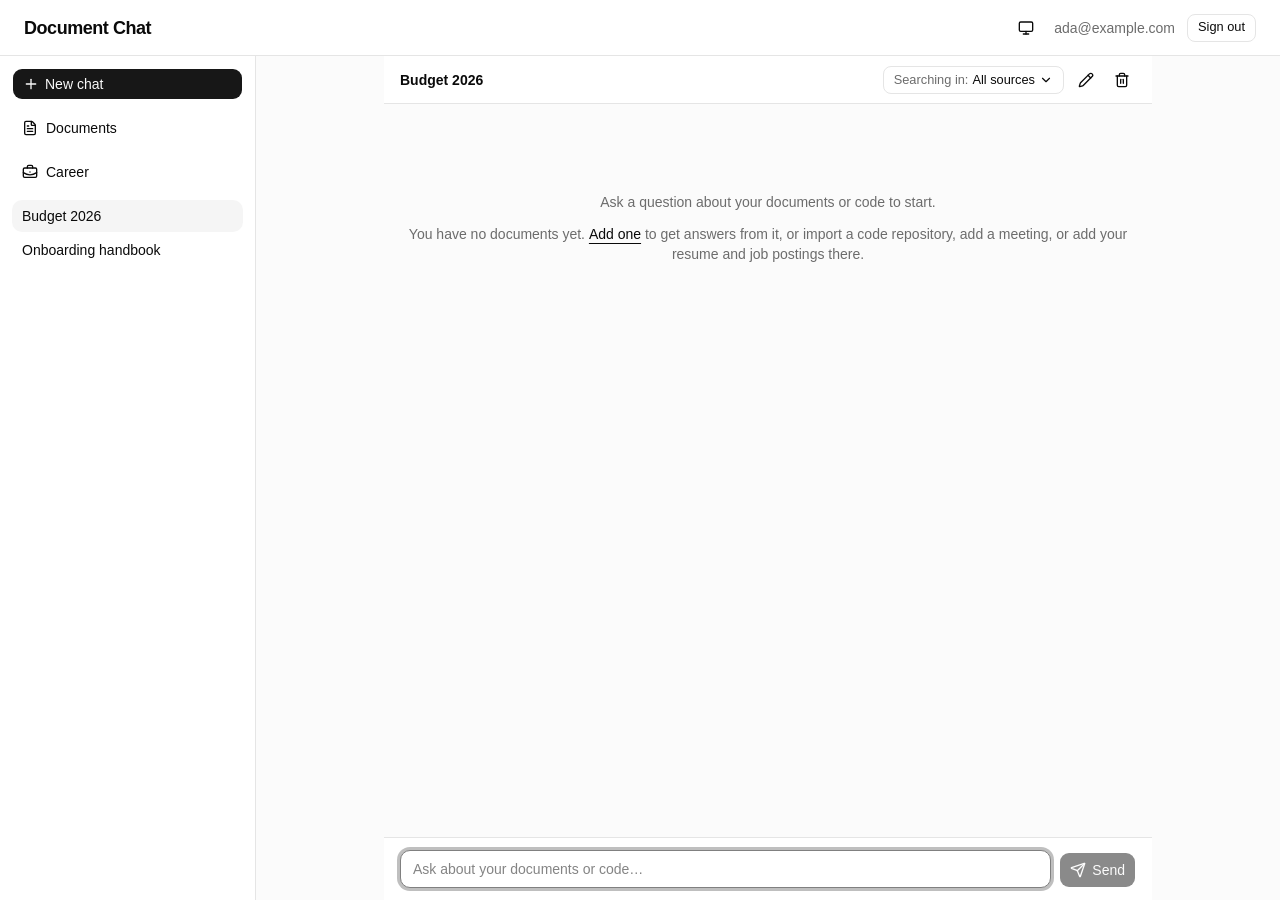
Test: chat header › renaming › keeps the editor open and says so when the server fails
Click the button named "Rename chat": click(1086, 80) top-left (1072, 66), bottom-right (1100, 94)
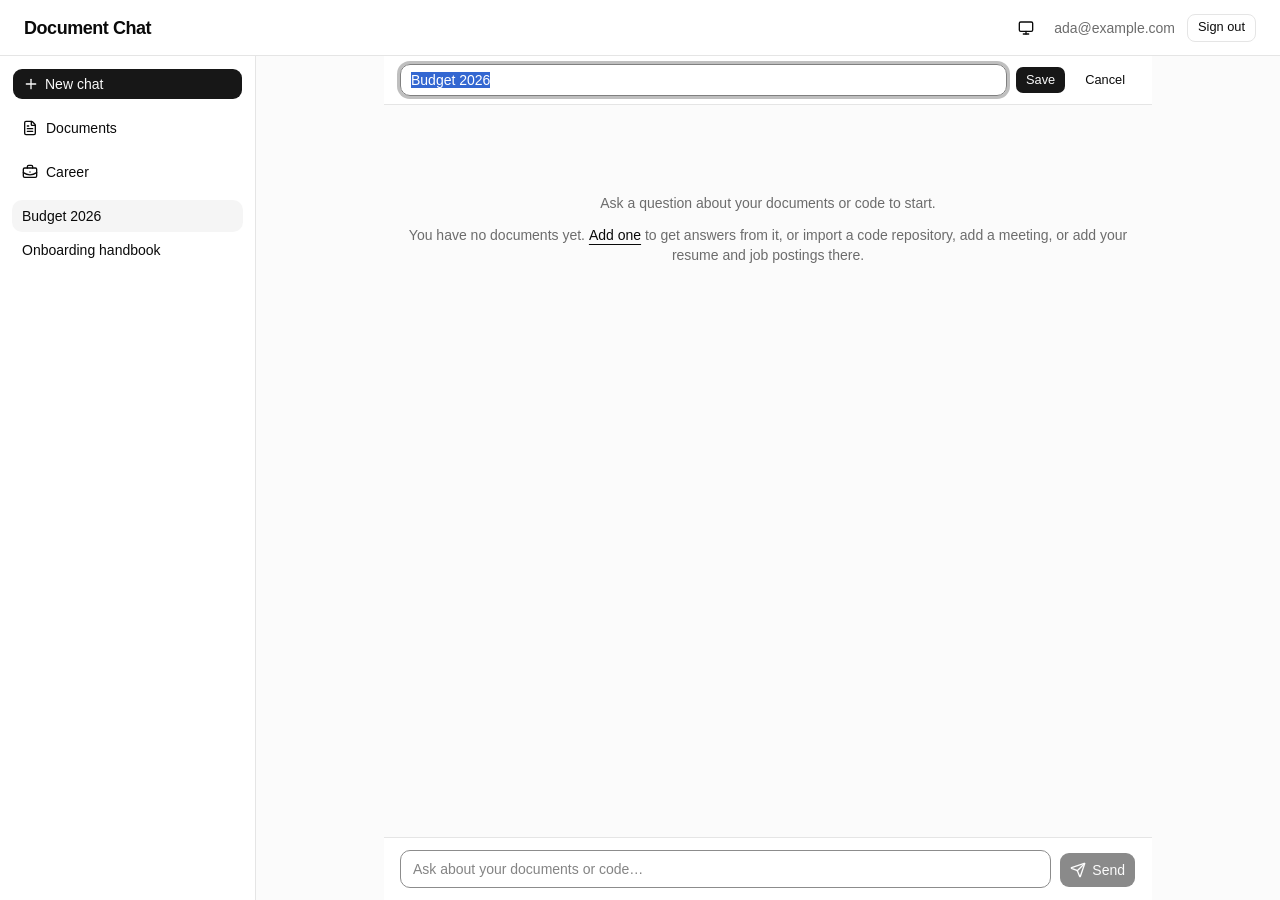
In the field named "Chat title": (704, 80) top-left (400, 64), bottom-right (1007, 96), type " v2"
Then press Enter
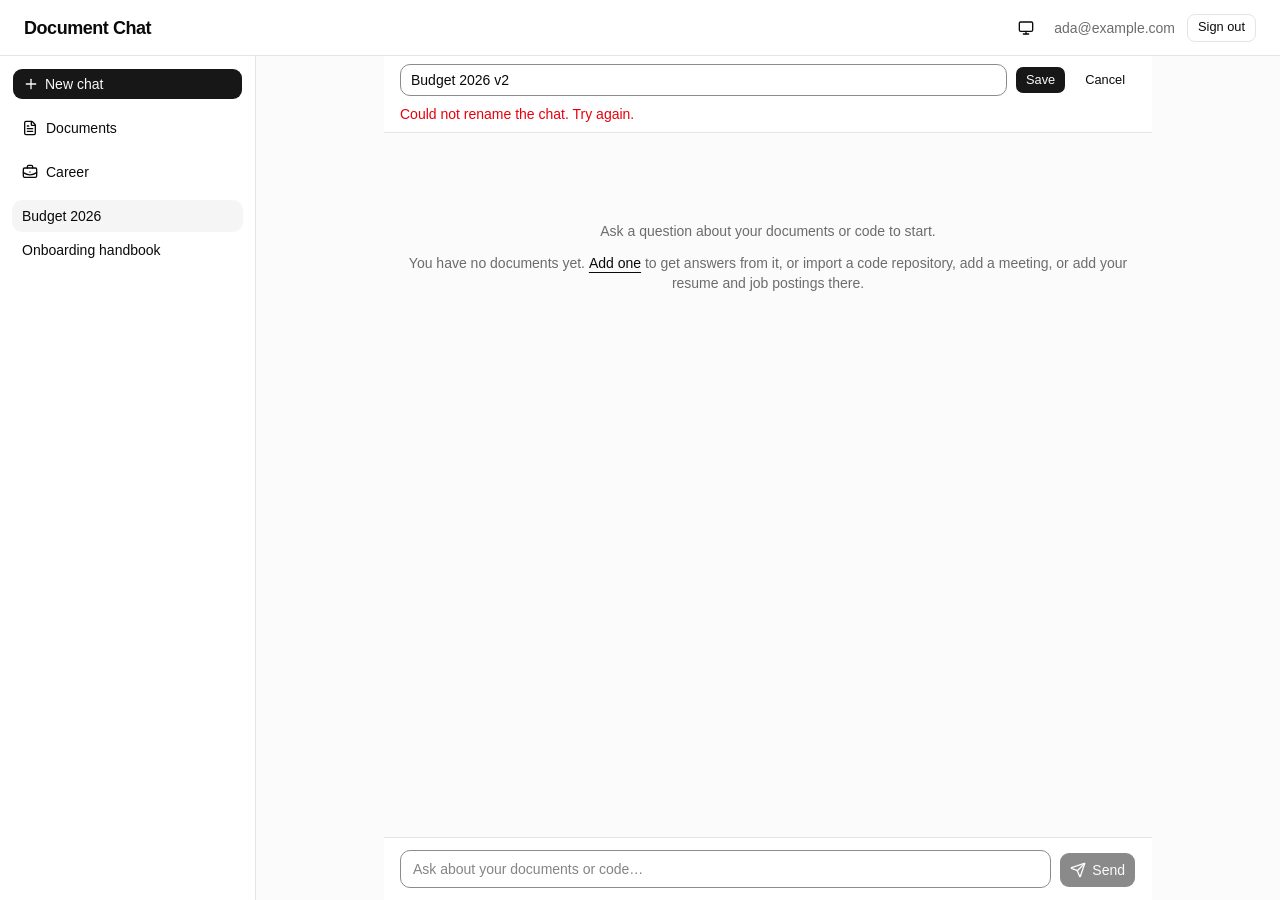
expect the message shows "Could not rename the chat": met, box top-left (400, 106), bottom-right (634, 122)
expect the field named "Chat title" holds "Budget 2026 v2": met, box top-left (400, 64), bottom-right (1007, 96)
